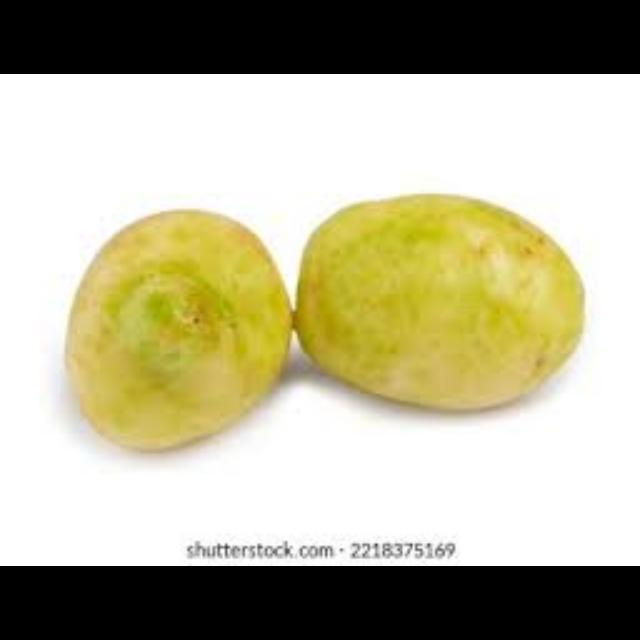Defected potato: (287, 180, 595, 424), (60, 204, 298, 458)
